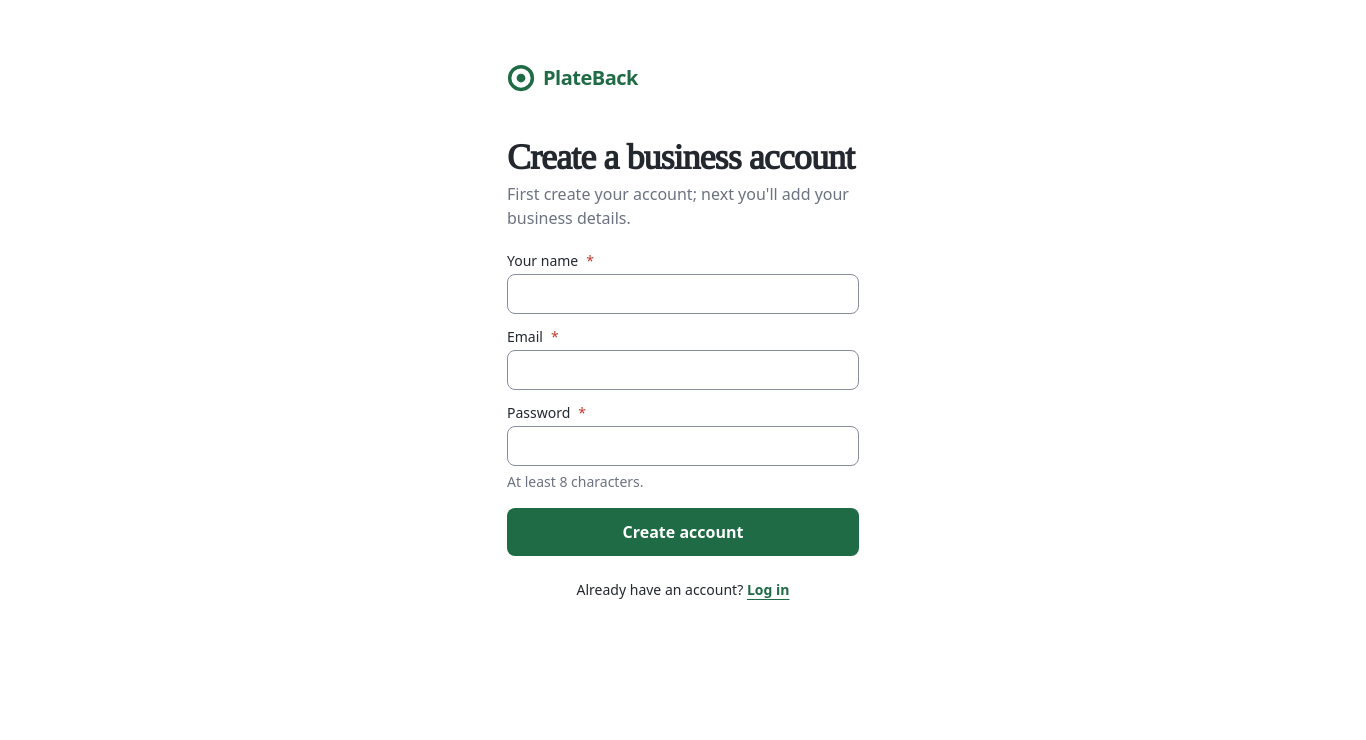
Test: RegisterPage › creates an account and continues to business details from 'List your surplus'
Expected: the heading "Create a business account" is shown, [507,138,854,178]
Type "Asha Karki" into the field labelled "Your name *". click: (683, 294)
box: [507,274,859,314]
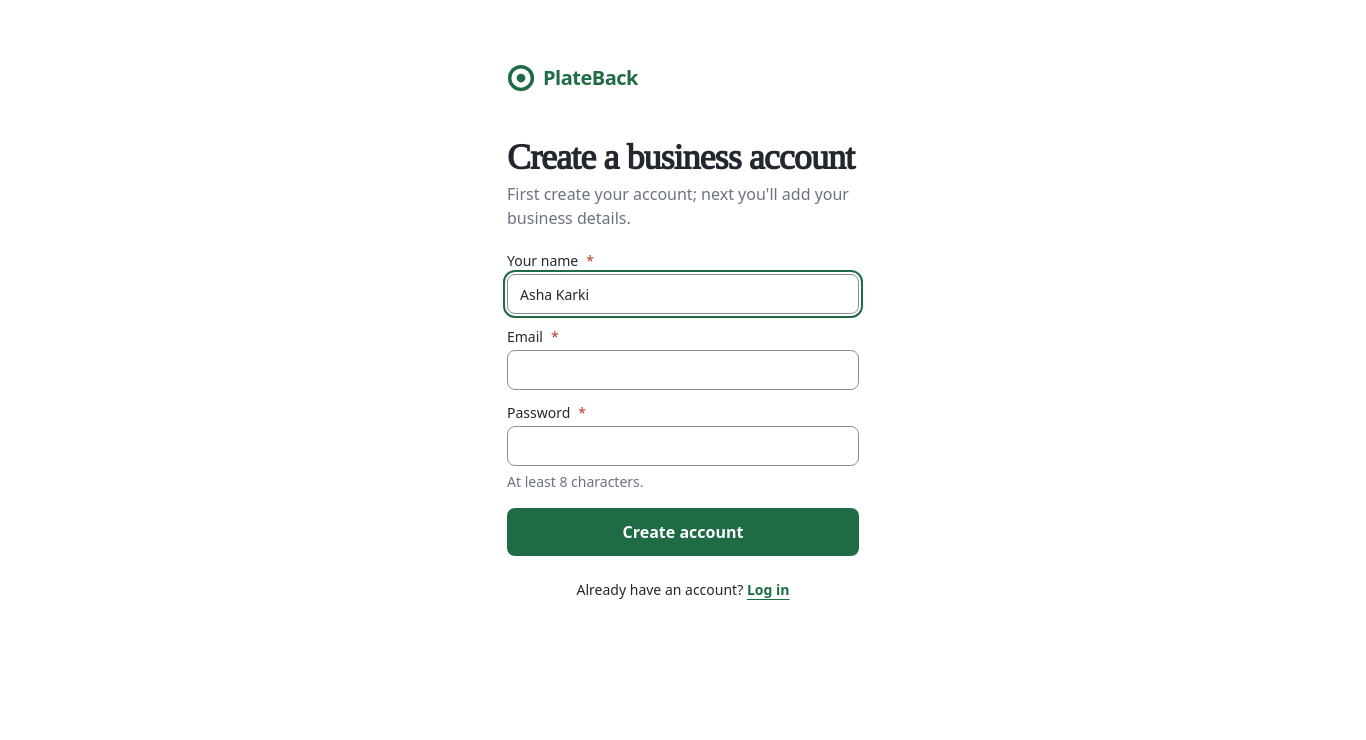
Type "asha@example.com" into the field labelled "Email *". click: (683, 370)
box: [507,350,859,390]
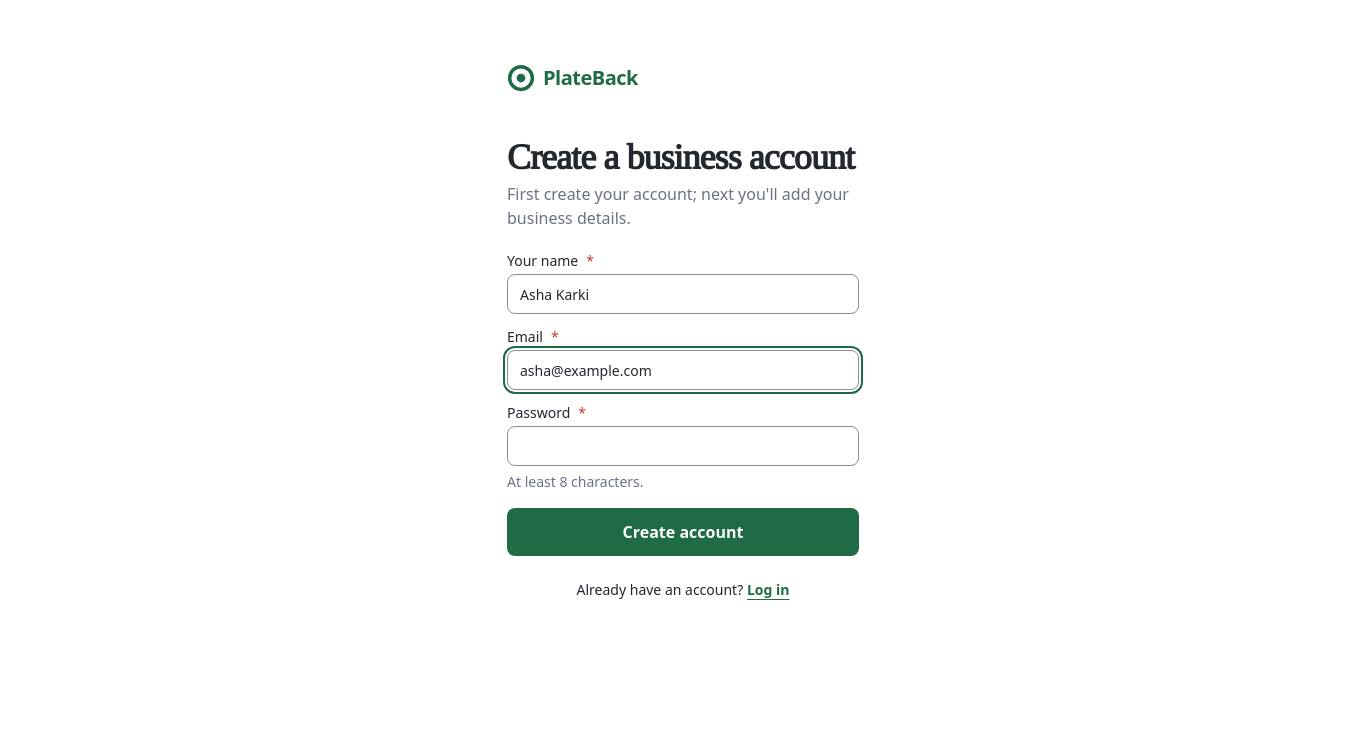
Type "longpassword" into the password field labelled "Password *". click: (683, 446)
box: [507,426,859,466]
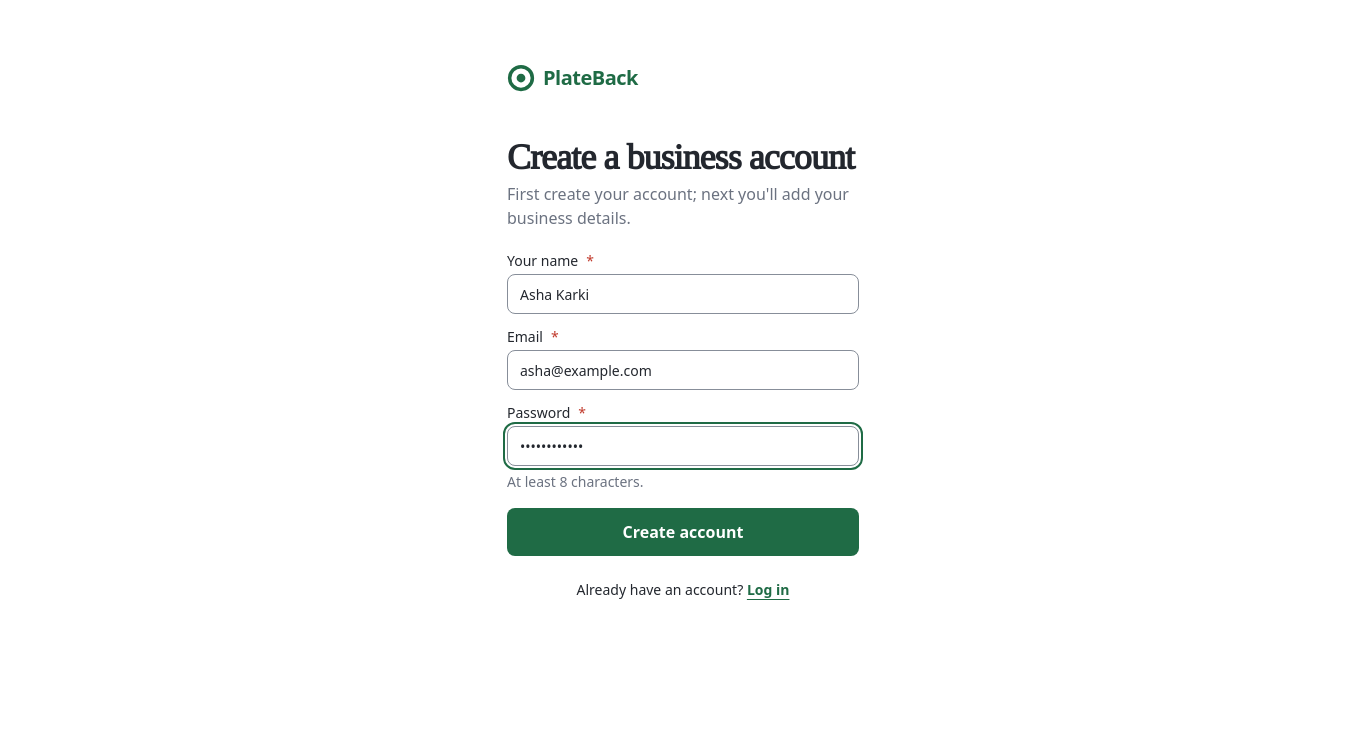
Click the button "Create account". click: click(683, 532)
box: [507,508,859,556]
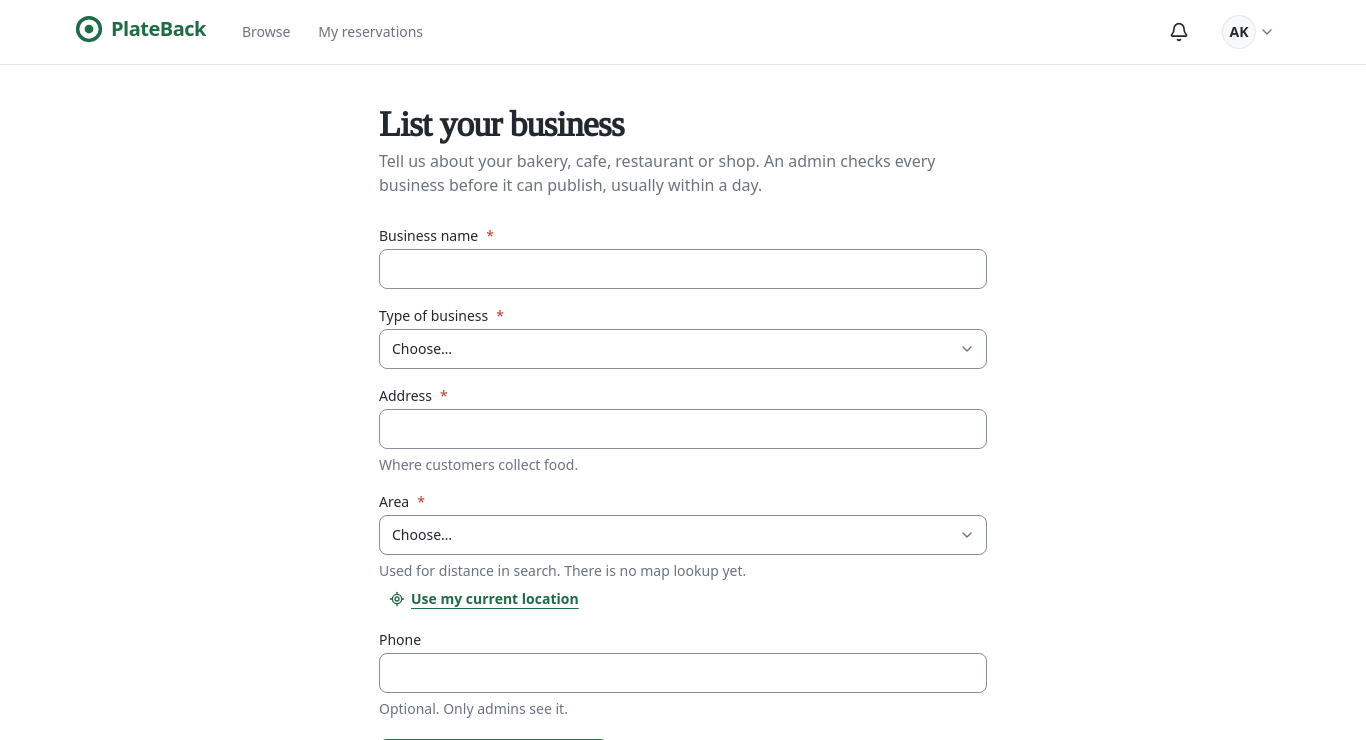
Now the heading "List your business" is shown, box [379,105,624,145]
